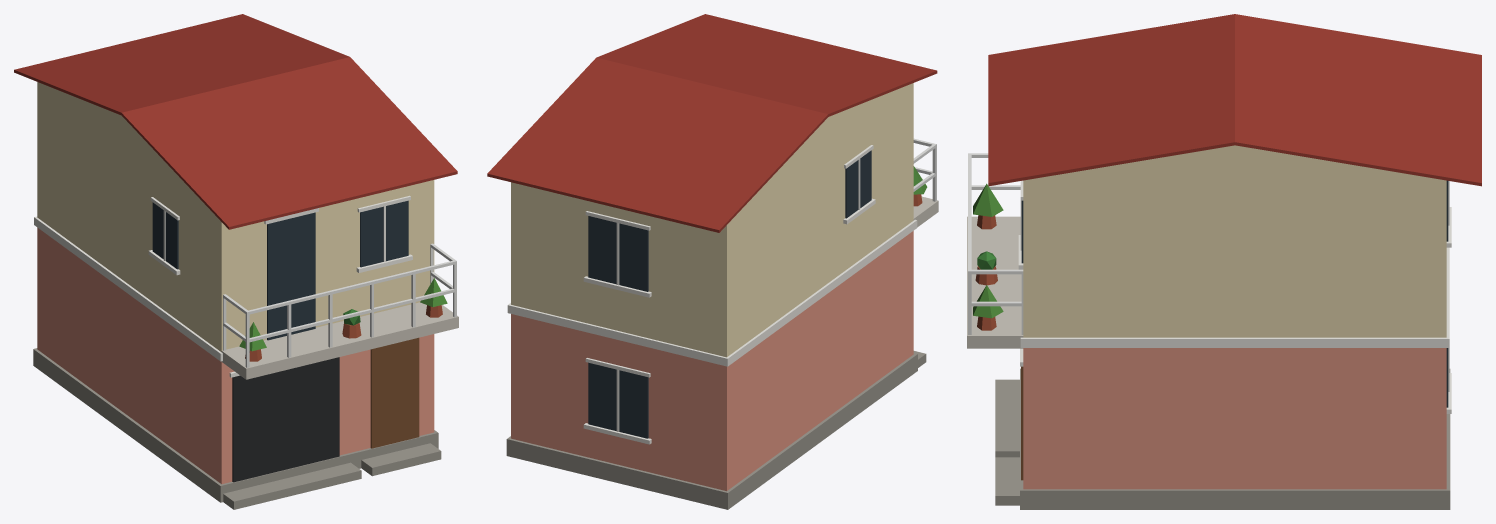
The model's file is BAY_F_TwoStorey_L.glb.
The picture shows the model from 3 angles, left to right: view 1: azimuth 30°, elevation 25°; view 2: azimuth 150°, elevation 25°; view 3: azimuth 270°, elevation 25°; orthographic projection. The views are drawn at different scales.
Parts seen in each view (by area): view 1: BAY_F_TwoStorey_L; view 2: BAY_F_TwoStorey_L; view 3: BAY_F_TwoStorey_L.
Boxes of the visible parts, left/top/right/bottom form: BAY_F_TwoStorey_L: left=14, top=14, right=458, bottom=509; BAY_F_TwoStorey_L: left=487, top=14, right=938, bottom=509; BAY_F_TwoStorey_L: left=967, top=14, right=1481, bottom=509.
Size of the model in its own units: 4.3 by 5.8 by 7.3.
1 material, 1 textured.
